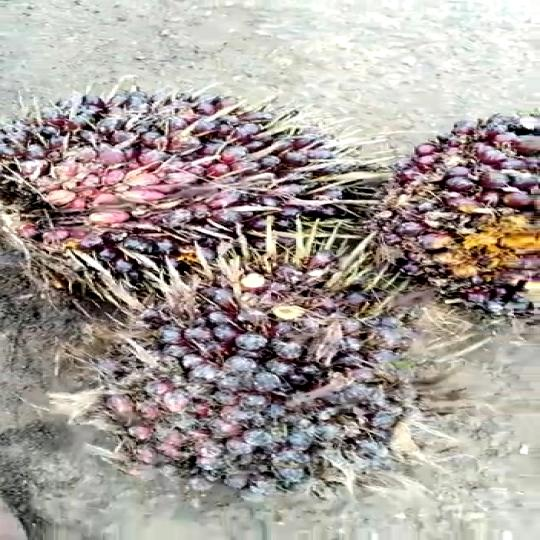kurang masak: (0, 76, 348, 298), (123, 241, 440, 482), (356, 100, 540, 330)
